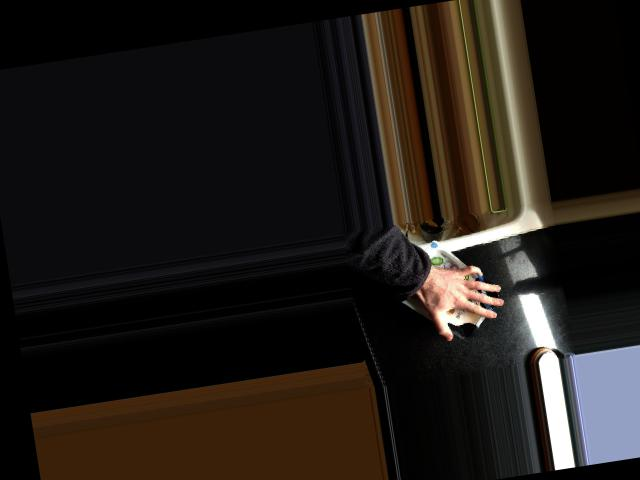cheese: (385, 228, 508, 351)
